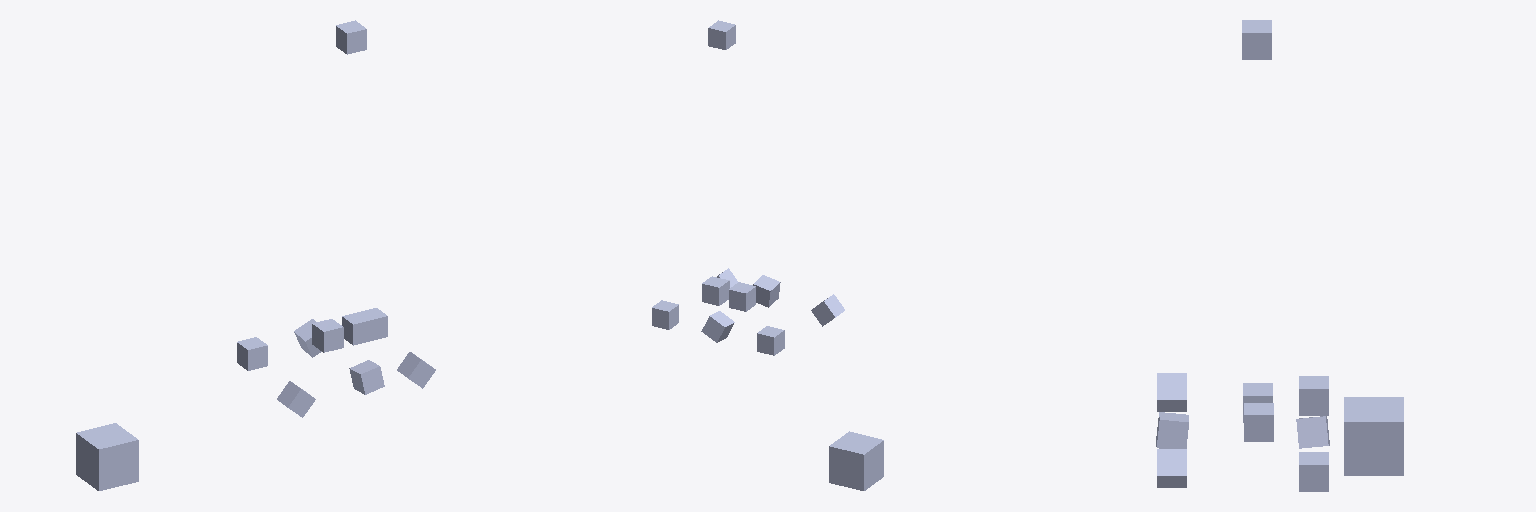
URDF robot description (edgebot):
<robot
  name="edgebot">
  <link
    name="base_link">
    <inertial>
      <origin
        xyz="0.438899308172859 0.237221351702204 0.19509484713464"
        rpy="0 0 0" />
      <mass
        value="0.884153023584512" />
      <inertia
        ixx="0.00200090951871897"
        ixy="-9.16844014314678E-06"
        ixz="-3.3586389738726E-08"
        iyy="0.0103060638122228"
        iyz="4.06239521848358E-07"
        izz="0.0103570368597873" />
    </inertial>
    <visual>
      <origin
        xyz="0 0 0"
        rpy="0 0 0" />
      <geometry>
        <box size="0.1 0.1 0.1"/>
      </geometry>
      <material
        name="">
        <color
          rgba="0.792156862745098 0.819607843137255 0.933333333333333 1" />
      </material>
    </visual>
    <collision>
      <origin
        xyz="0 0 0"
        rpy="0 0 0" />
      <geometry>
        <box size="0.05 0.05 0.05"/>
      </geometry>
    </collision>
  </link>
  <link
    name="frame_link">
    <inertial>
      <origin
        xyz="8.20485013318661E-05 -0.000596551625445085 -0.0430605364621666"
        rpy="0 0 0" />
      <mass
        value="3.72036686426727" />
      <inertia
        ixx="0.0621147759556058"
        ixy="3.38192741319859E-05"
        ixz="0.000139266157997626"
        iyy="0.0459219970034612"
        iyz="0.000205960521453552"
        izz="0.0996556020502554" />
    </inertial>
    <visual>
      <origin
        xyz="0 0 0"
        rpy="0 0 0" />
      <geometry>
        <box size="0.05 0.05 0.05"/>
      </geometry>
      <material
        name="">
        <color
          rgba="0.792156862745098 0.819607843137255 0.933333333333333 1" />
      </material>
    </visual>
    <collision>
      <origin
        xyz="0 0 0"
        rpy="0 0 0" />
      <geometry>
        <box size="0.05 0.05 0.05"/>
      </geometry>
    </collision>
  </link>
  <joint
    name="frame_to_base"
    type="fixed">
    <origin
      xyz="0.438363096971295 -0.195314127170782 0.26661437674691"
      rpy="0.003636955004639 -0.00371282137385339 1.56875682268059" />
    <parent
      link="base_link" />
    <child
      link="frame_link" />
    <axis
      xyz="0 0 0" />
  </joint>
  <link
    name="imu_link">
    <inertial>
      <origin
        xyz="0.0746147372789705 0.00174526625830648 -0.042201430582303"
        rpy="0 0 0" />
      <mass
        value="3.72036686426727" />
      <inertia
        ixx="0.045921141268143"
        ixy="-2.47246095227085E-07"
        ixz="1.06536801120577E-05"
        iyy="0.0621143267934617"
        iyz="-2.20972362768415E-08"
        izz="0.0996569069477176" />
    </inertial>
    <visual>
      <origin
        xyz="0 0 0"
        rpy="0 0 0" />
      <geometry>
        <box size="0.05 0.05 0.05"/>
      </geometry>
      <material
        name="">
        <color
          rgba="0.792156862745098 0.819607843137255 0.933333333333333 1" />
      </material>
    </visual>
    <collision>
      <origin
        xyz="0 0 0"
        rpy="0 0 0" />
      <geometry>
        <box size="0.05 0.05 0.05"/>
      </geometry>
    </collision>
  </link>
  <joint
    name="imu_to_base"
    type="fixed">
    <origin
      xyz="0.00213616102338199 -0.0750536231042212 -0.000595364317615865"
      rpy="0.00372023121297239 0.00362937514880036 1.57283583028442" />
    <parent
      link="frame_link" />
    <child
      link="imu_link" />
    <axis
      xyz="0 0 0" />
  </joint>
  <link
    name="lidar_link">
    <inertial>
      <origin
        xyz="0.000241032887169063 0.000440431294919552 0.0430618198597056"
        rpy="0 0 0" />
      <mass
        value="3.72036686426727" />
      <inertia
        ixx="0.0621143267934617"
        ixy="-2.4724609524641E-07"
        ixz="-2.2097236273383E-08"
        iyy="0.045921141268143"
        iyz="1.06536801126496E-05"
        izz="0.0996569069477177" />
    </inertial>
    <visual>
      <origin
        xyz="0 0 0"
        rpy="0 0 0" />
      <geometry>
        <box size="0.05 0.05 0.05"/>
      </geometry>
      <material
        name="">
        <color
          rgba="0.792156862745098 0.819607843137255 0.933333333333333 1" />
      </material>
    </visual>
    <collision>
      <origin
        xyz="0 0 0"
        rpy="0 0 0" />
      <geometry>
        <box size="0.05 0.05 0.05"/>
      </geometry>
    </collision>
  </link>
  <joint
    name="lidar_to_base"
    type="fixed">
    <origin
      xyz="0 0 0"
      rpy="3.13796325332559 0.00372020671076645 0.00202600134216019" />
    <parent
      link="frame_link" />
    <child
      link="lidar_link" />
    <axis
      xyz="0 0 0" />
  </joint>
  <link
    name="zed_link">
    <inertial>
      <origin
        xyz="0.000895251962008348 -0.0575803011913124 0.741431568638492"
        rpy="0 0 0" />
      <mass
        value="3.72036686426726" />
      <inertia
        ixx="0.0621143267934617"
        ixy="-2.47246095227091E-07"
        ixz="-2.20972362777158E-08"
        iyy="0.0459211412681429"
        iyz="1.06536801123543E-05"
        izz="0.0996569069477176" />
    </inertial>
    <visual>
      <origin
        xyz="0 0 0"
        rpy="0 0 0" />
      <geometry>
        <box size="0.05 0.05 0.05"/>
      </geometry>
      <material
        name="">
        <color
          rgba="0.792156862745098 0.819607843137255 0.933333333333333 1" />
      </material>
    </visual>
    <collision>
      <origin
        xyz="0 0 0"
        rpy="0 0 0" />
      <geometry>
        <box size="0.05 0.05 0.05"/>
      </geometry>
    </collision>
  </link>
  <joint
    name="zed_to_frame"
    type="fixed">
    <origin
      xyz="0.00205703559283704 -0.0554816388733477 0.698573328837194"
      rpy="3.13796325332558 0.00372020671076645 0.00202600134216019" />
    <parent
      link="frame_link" />
    <child
      link="zed_link" />
    <axis
      xyz="0 0 0" />
  </joint>
  <link
    name="front_left_wheel_link">
    <inertial>
      <origin
        xyz="-0.01484335935403 0.00298864913279337 -0.0247823943103704"
        rpy="0 0 0" />
      <mass
        value="0.468334802594439" />
      <inertia
        ixx="9.06314781293296E-05"
        ixy="-1.42981393019443E-20"
        ixz="1.31102031106685E-13"
        iyy="9.06314781293297E-05"
        iyz="9.8411991848432E-13"
        izz="1.38014827251105E-19" />
    </inertial>
    <visual>
      <origin
        xyz="0 0 0"
        rpy="0 0 0" />
      <geometry>
        <box size="0.05 0.05 0.05"/>
      </geometry>
      <material
        name="">
        <color
          rgba="0.792156862745098 0.819607843137255 0.933333333333333 1" />
      </material>
    </visual>
    <collision>
      <origin
        xyz="0 0 0"
        rpy="0 0 0" />
      <geometry>
        <box size="0.05 0.05 0.05"/>
      </geometry>
    </collision>
  </link>
  <joint
    name="flw_to_base"
    type="fixed">
    <origin
      xyz="0.603617204869533 -0.101542452042108 0.216463837102284"
      rpy="1.5707963267949 0 0" />
    <parent
      link="base_link" />
    <child
      link="front_left_wheel_link" />
    <axis
      xyz="0 0 0" />
  </joint>
  <link
    name="front_right_wheel_link">
    <inertial>
      <origin
        xyz="-0.0148433593679134 0.00298864913743596 -0.0252175055794878"
        rpy="0 0 0" />
      <mass
        value="0.468334802789317" />
      <inertia
        ixx="9.06314983932413E-05"
        ixy="-1.6940658945086E-20"
        ixz="-9.68623500431622E-14"
        iyy="9.06314983932415E-05"
        iyz="9.14204682142915E-13"
        izz="1.35280236371004E-19" />
    </inertial>
    <visual>
      <origin
        xyz="0 0 0"
        rpy="0 0 0" />
      <geometry>
        <box size="0.05 0.05 0.05"/>
      </geometry>
      <material
        name="">
        <color
          rgba="0.792156862745098 0.819607843137255 0.933333333333333 1" />
      </material>
    </visual>
    <collision>
      <origin
        xyz="0 0 0"
        rpy="0 0 0" />
      <geometry>
        <box size="0.05 0.05 0.05"/>
      </geometry>
    </collision>
  </link>
  <joint
    name="frw_to_base"
    type="fixed">
    <origin
      xyz="0.576648464893826 -0.338542452042108 0.210384268469494"
      rpy="-1.5707963267949 0.840826361981533 -3.14159265358979" />
    <parent
      link="base_link" />
    <child
      link="front_right_wheel_link" />
    <axis
      xyz="0 0 0" />
  </joint>
  <link
    name="middle_left_wheel_link">
    <inertial>
      <origin
        xyz="-0.0148433596977449 0.00298864897265176 -0.0247823943016086"
        rpy="0 0 0" />
      <mass
        value="0.468334793394047" />
      <inertia
        ixx="9.06314827261833E-05"
        ixy="-1.12417153968407E-19"
        ixz="-4.68198536507826E-12"
        iyy="9.06314827261836E-05"
        iyz="-2.11847901652458E-12"
        izz="3.83493093160273E-19" />
    </inertial>
    <visual>
      <origin
        xyz="0 0 0"
        rpy="0 0 0" />
      <geometry>
        <box size="0.05 0.05 0.05"/>
      </geometry>
      <material
        name="">
        <color
          rgba="0.792156862745098 0.819607843137255 0.933333333333333 1" />
      </material>
    </visual>
    <collision>
      <origin
        xyz="0 0 0"
        rpy="0 0 0" />
      <geometry>
        <box size="0.05 0.05 0.05"/>
      </geometry>
    </collision>
  </link>
  <joint
    name="mlw_to_base"
    type="fixed">
    <origin
      xyz="0.453539006624602 -0.102391163469758 0.21948109198239"
      rpy="1.6864743653941 -0.419536219496663 -0.0472959488827261" />
    <parent
      link="base_link" />
    <child
      link="middle_left_wheel_link" />
    <axis
      xyz="0 0 0" />
  </joint>
  <link
    name="middle_right_wheel_link">
    <inertial>
      <origin
        xyz="-0.0148433593617878 0.00298864906298198 -0.0252175054990609"
        rpy="0 0 0" />
      <mass
        value="0.468334793159348" />
      <inertia
        ixx="9.06315034588932E-05"
        ixy="-2.65134547380397E-19"
        ixz="4.04894361186352E-12"
        iyy="9.06315034588932E-05"
        iyz="5.52652425379657E-12"
        izz="6.610333848216E-19" />
    </inertial>
    <visual>
      <origin
        xyz="0 0 0"
        rpy="0 0 0" />
      <geometry>
        <box size="0.05 0.05 0.05"/>
      </geometry>
      <material
        name="">
        <color
          rgba="0.792156862745098 0.819607843137255 0.933333333333333 1" />
      </material>
    </visual>
    <collision>
      <origin
        xyz="0 0 0"
        rpy="0 0 0" />
      <geometry>
        <box size="0.05 0.05 0.05"/>
      </geometry>
    </collision>
  </link>
  <joint
    name="mrw_to_base"
    type="fixed">
    <origin
      xyz="0.45391067430741 -0.337948668269128 0.22105292095306"
      rpy="1.46357259696124 -0.173550651625072 0.0185846183127613" />
    <parent
      link="base_link" />
    <child
      link="middle_right_wheel_link" />
    <axis
      xyz="0 0 0" />
  </joint>
  <link
    name="back_left_wheel_link">
    <inertial>
      <origin
        xyz="-0.014843359372265 0.00298864914948446 -0.0247823943239765"
        rpy="0 0 0" />
      <mass
        value="0.468334802837936" />
      <inertia
        ixx="9.06314778953891E-05"
        ixy="-1.66504380048841E-20"
        ixz="2.54048035915944E-13"
        iyy="9.06314778953892E-05"
        iyz="8.71582586847909E-13"
        izz="1.33257127206141E-19" />
    </inertial>
    <visual>
      <origin
        xyz="0 0 0"
        rpy="0 0 0" />
      <geometry>
        <box size="0.05 0.05 0.05"/>
      </geometry>
      <material
        name="">
        <color
          rgba="0.792156862745098 0.819607843137255 0.933333333333333 1" />
      </material>
    </visual>
    <collision>
      <origin
        xyz="0 0 0"
        rpy="0 0 0" />
      <geometry>
        <box size="0.05 0.05 0.05"/>
      </geometry>
    </collision>
  </link>
  <joint
    name="blw_to_base"
    type="fixed">
    <origin
      xyz="0.303617204869533 -0.101542452042108 0.216463837102284"
      rpy="1.5707963267949 0 0" />
    <parent
      link="base_link" />
    <child
      link="back_left_wheel_link" />
    <axis
      xyz="0 0 0" />
  </joint>
  <link
    name="back_right_wheel_link">
    <inertial>
      <origin
        xyz="-0.0148433593683494 0.00298864914472619 -0.0252175055825492"
        rpy="0 0 0" />
      <mass
        value="0.468334802789255" />
      <inertia
        ixx="9.0631498350726E-05"
        ixy="-2.03287907341032E-20"
        ixz="-9.38349790773039E-14"
        iyy="9.06314983507261E-05"
        iyz="8.63566218365631E-13"
        izz="1.34353473215498E-19" />
    </inertial>
    <visual>
      <origin
        xyz="0 0 0"
        rpy="0 0 0" />
      <geometry>
        <box size="0.05 0.05 0.05"/>
      </geometry>
      <material
        name="">
        <color
          rgba="0.792156862745098 0.819607843137255 0.933333333333333 1" />
      </material>
    </visual>
    <collision>
      <origin
        xyz="0 0 0"
        rpy="0 0 0" />
      <geometry>
        <box size="0.05 0.05 0.05"/>
      </geometry>
    </collision>
  </link>
  <joint
    name="brw_to_base"
    type="fixed">
    <origin
      xyz="0.276648464893826 -0.338542452042108 0.210384268469494"
      rpy="-1.5707963267949 0.840826361981533 -3.14159265358979" />
    <parent
      link="base_link" />
    <child
      link="back_right_wheel_link" />
    <axis
      xyz="0 0 0" />
  </joint>
</robot>

--- Render facts (derived) ---
3 views of the same robot in one strip: view 1: azimuth 30°, elevation 25°; view 2: azimuth 150°, elevation 25°; view 3: azimuth 270°, elevation 25° (orthographic).
Model edgebot with 11 links and 10 joints (10 fixed), rooted at base_link, posed all joints at 0.
Visible links, largest first — view 1: base_link, zed_link, back_left_wheel_link, middle_right_wheel_link, imu_link, front_right_wheel_link, back_right_wheel_link; view 2: base_link, back_left_wheel_link, zed_link, imu_link, front_left_wheel_link, middle_left_wheel_link, middle_right_wheel_link, back_right_wheel_link; view 3: base_link, zed_link, front_left_wheel_link, back_left_wheel_link, imu_link, front_right_wheel_link, back_right_wheel_link, middle_right_wheel_link, middle_left_wheel_link.
Boxes of the visible links, box(x1,y1,x2,y2) form: base_link: box(76, 423, 138, 490); zed_link: box(336, 20, 366, 54); back_left_wheel_link: box(237, 337, 267, 370); middle_right_wheel_link: box(349, 360, 384, 394); imu_link: box(342, 311, 372, 345); front_right_wheel_link: box(397, 352, 435, 388); back_right_wheel_link: box(277, 381, 315, 417); base_link: box(829, 431, 883, 490); back_left_wheel_link: box(757, 326, 784, 355); zed_link: box(708, 20, 735, 49); imu_link: box(702, 276, 729, 305); front_left_wheel_link: box(652, 300, 678, 329); middle_left_wheel_link: box(701, 311, 734, 342); middle_right_wheel_link: box(753, 275, 780, 307); back_right_wheel_link: box(811, 294, 844, 326); base_link: box(1344, 397, 1403, 475); zed_link: box(1242, 20, 1271, 59); front_left_wheel_link: box(1299, 452, 1328, 491); back_left_wheel_link: box(1299, 376, 1328, 415); imu_link: box(1244, 403, 1273, 441); front_right_wheel_link: box(1157, 449, 1186, 487); back_right_wheel_link: box(1157, 373, 1186, 411); middle_right_wheel_link: box(1156, 412, 1188, 448); middle_left_wheel_link: box(1296, 416, 1329, 448).
Size in the robot's own frame: 0.6786 by 0.4159 by 1.04 metres.
Geometry: primitives only (box / cylinder / sphere), no mesh files.